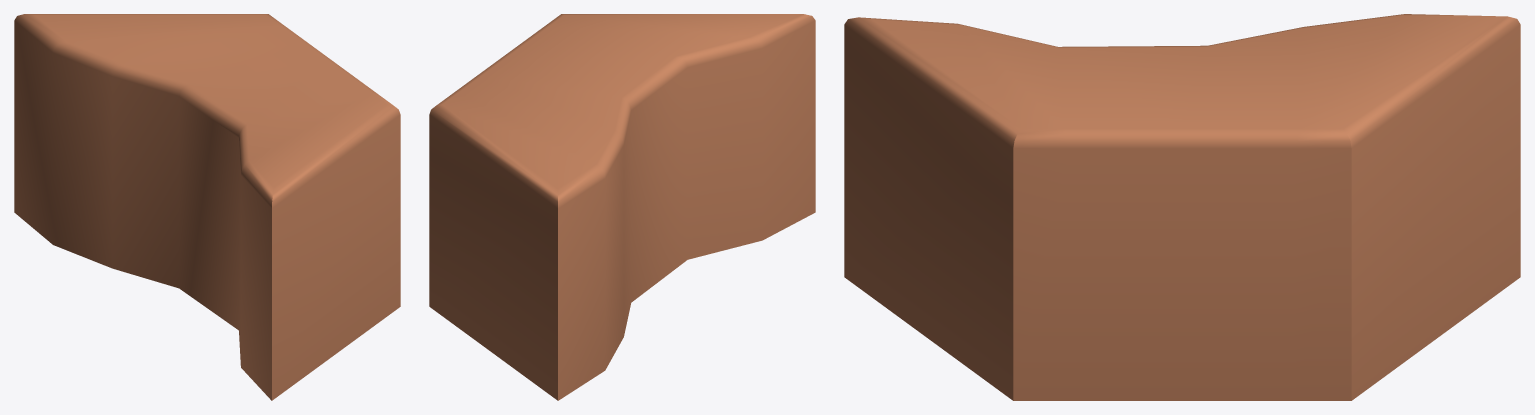
The model's file is hex_rock_waterc_empty.glb.
3 views of the same model, side by side, from view 1: azimuth 30°, elevation 25°; view 2: azimuth 150°, elevation 25°; view 3: azimuth 270°, elevation 25° (orthographic). The views are drawn at different scales.
Visible parts, largest first — view 1: hex_rock_waterC_empty; view 2: hex_rock_waterC_empty; view 3: hex_rock_waterC_empty.
Part boxes in pixels (x1,y1,x2,y2): hex_rock_waterC_empty: (14, 14, 400, 400); hex_rock_waterC_empty: (429, 14, 815, 400); hex_rock_waterC_empty: (844, 14, 1520, 400).
Size of the model in its own units: 4.09 by 4 by 9.24.
